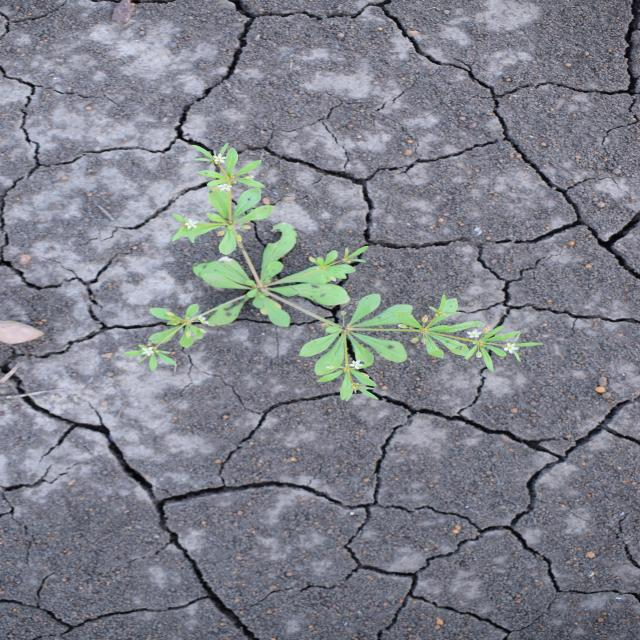Carpetweed: (123, 140, 548, 404)
